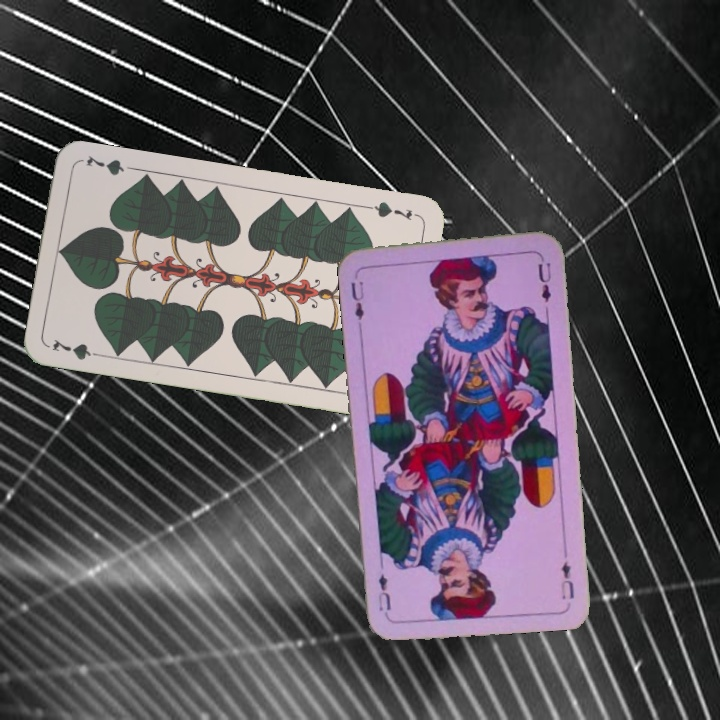EU: (347, 277, 367, 323), (557, 557, 577, 602)
G7: (48, 334, 106, 362), (363, 197, 422, 224)
